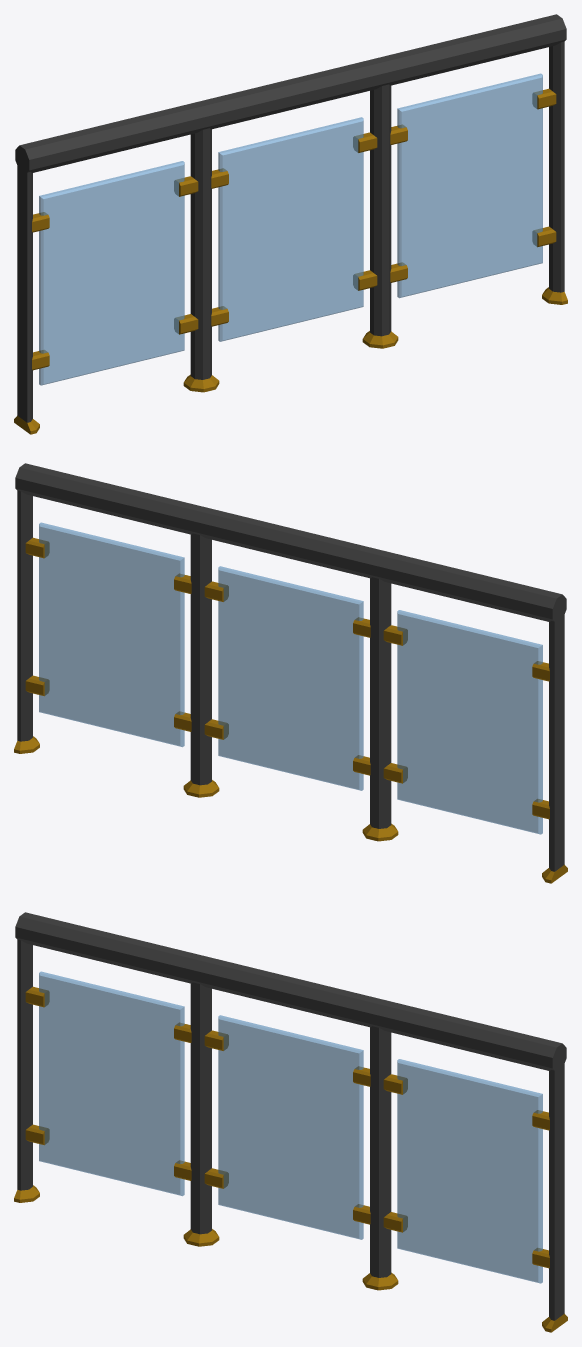
File: glass_rope.glb
3 renders of one model, top to bottom at view 1: azimuth 30°, elevation 25°; view 2: azimuth 150°, elevation 25°; view 3: azimuth 330°, elevation 25°, orthographic.
Parts seen in each view (by area): view 1: glass, frame; view 2: glass, frame; view 3: glass, frame.
Boxes of the visible parts, x1=… form: glass: x1=39, y1=73, x2=542, y2=385; frame: x1=14, y1=14, x2=567, y2=434; glass: x1=39, y1=522, x2=542, y2=834; frame: x1=14, y1=463, x2=567, y2=883; glass: x1=39, y1=971, x2=542, y2=1283; frame: x1=14, y1=912, x2=567, y2=1332.
Bounding box in the file's own units: 2 × 1 × 0.107.
